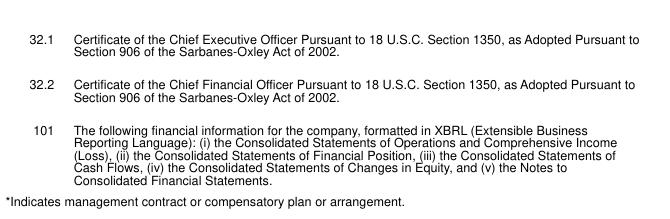table: (28, 29, 638, 187)
table column: (62, 29, 638, 187), (28, 29, 62, 187)
table row: (28, 112, 638, 187), (28, 66, 638, 112), (28, 29, 638, 66)
